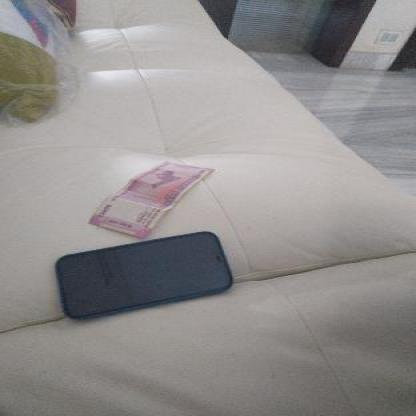New2000Back: (90, 160, 217, 238)
